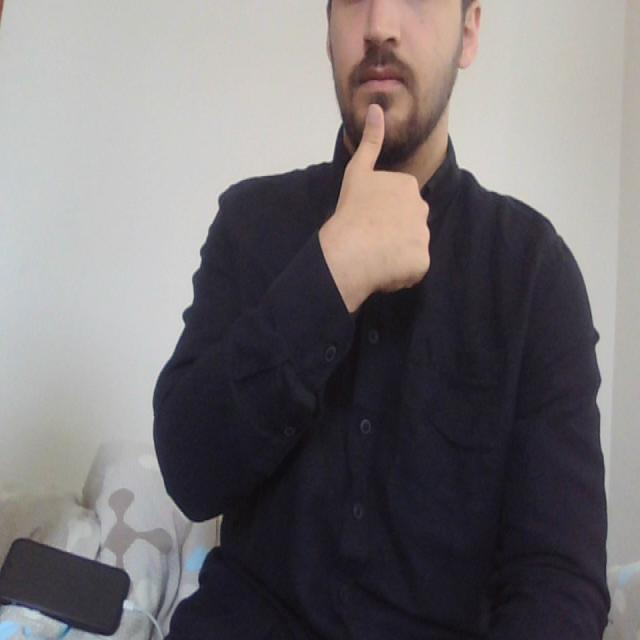Baba: (328, 54, 417, 164)
